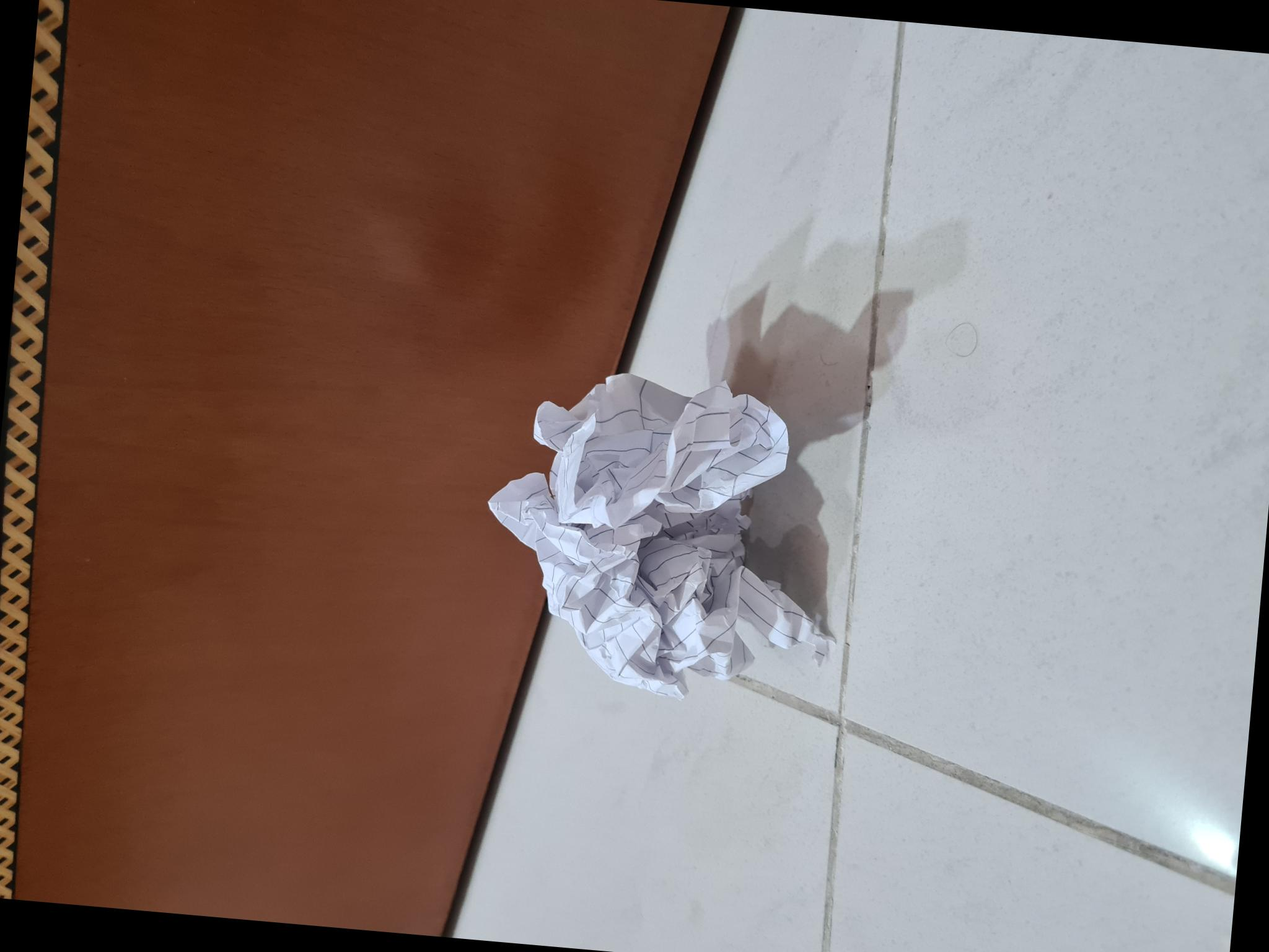Kertas: (241, 475, 564, 818)
